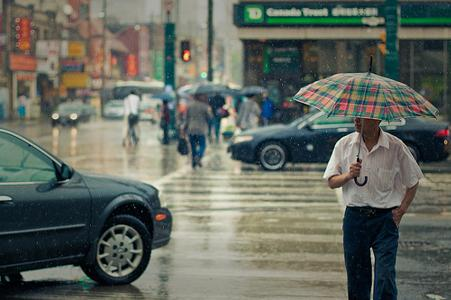person: (325, 117, 423, 300)
